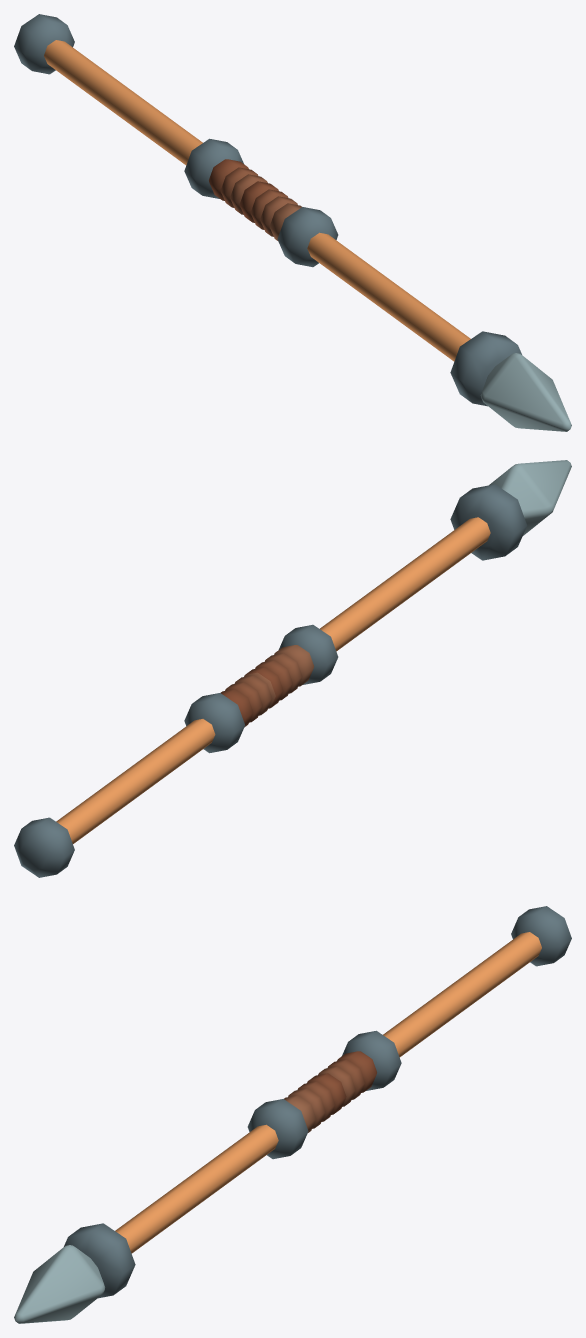
Rendered from spear_01.fbx.
3 renders of one model, top to bottom at view 1: azimuth 30°, elevation 25°; view 2: azimuth 150°, elevation 25°; view 3: azimuth 330°, elevation 25°, orthographic.
Visible parts, largest first — view 1: spear_01; view 2: spear_01; view 3: spear_01.
Part boxes in pixels (x1,y1,x2,y2): spear_01: (14, 14, 571, 431); spear_01: (14, 460, 571, 877); spear_01: (14, 906, 571, 1323).
Size of the model in its own units: 0.1244 by 0.1244 by 1.65.
3 materials, 3 textured.
